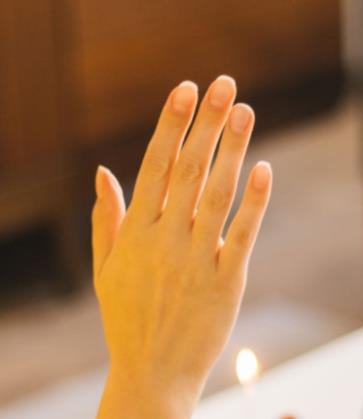down: (82, 70, 278, 378)
